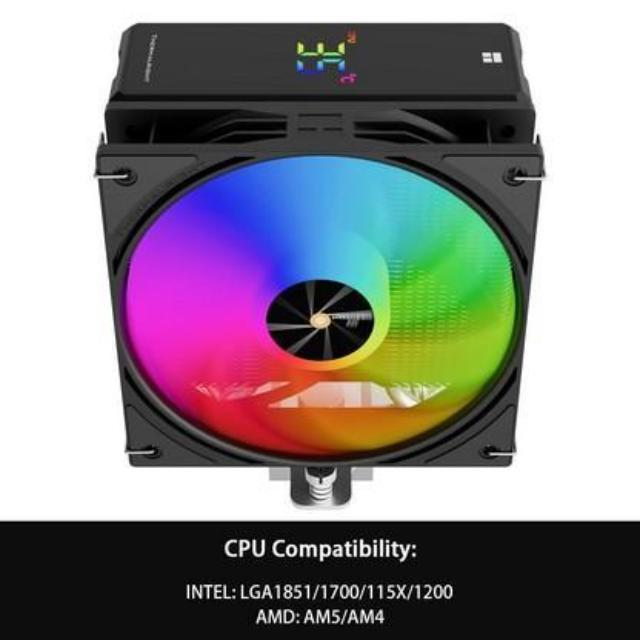CPU_Fan: (95, 14, 552, 520)
